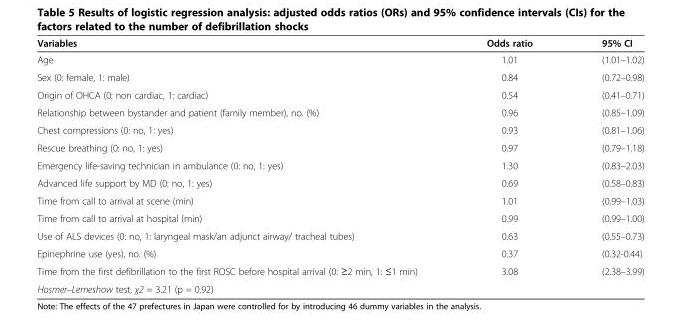table: (36, 36, 643, 294)
table column: (36, 36, 451, 294), (451, 36, 566, 294), (566, 36, 643, 294)
table column header: (36, 36, 643, 50)
table projected row header: (36, 279, 643, 294)
table row: (36, 50, 643, 68), (36, 85, 643, 103), (36, 120, 643, 138), (36, 138, 643, 156), (36, 173, 643, 191), (36, 191, 643, 209), (36, 226, 643, 244), (36, 261, 643, 279), (36, 68, 643, 85), (36, 103, 643, 120), (36, 156, 643, 173), (36, 209, 643, 226), (36, 244, 643, 261), (36, 279, 643, 294), (36, 36, 643, 50)
